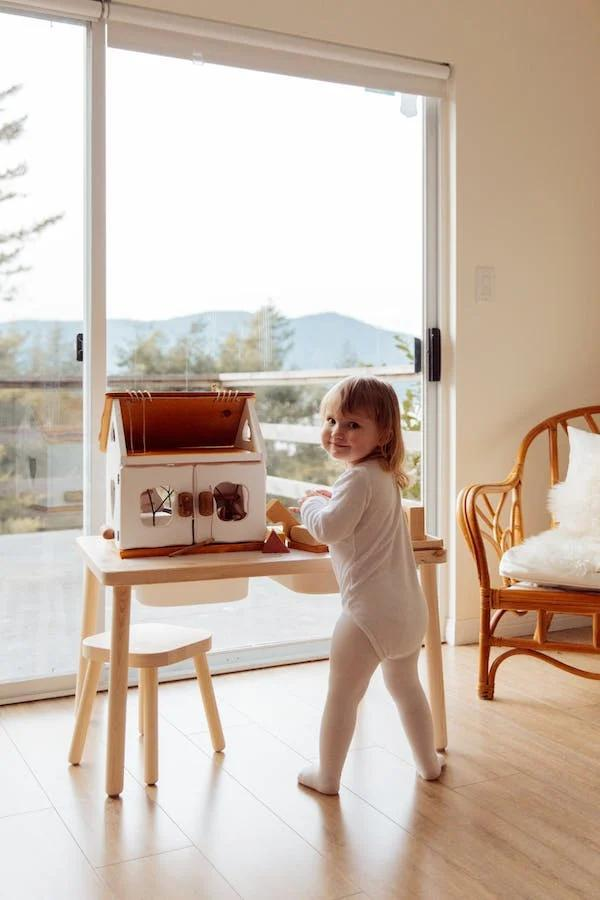child: (278, 375, 464, 805)
